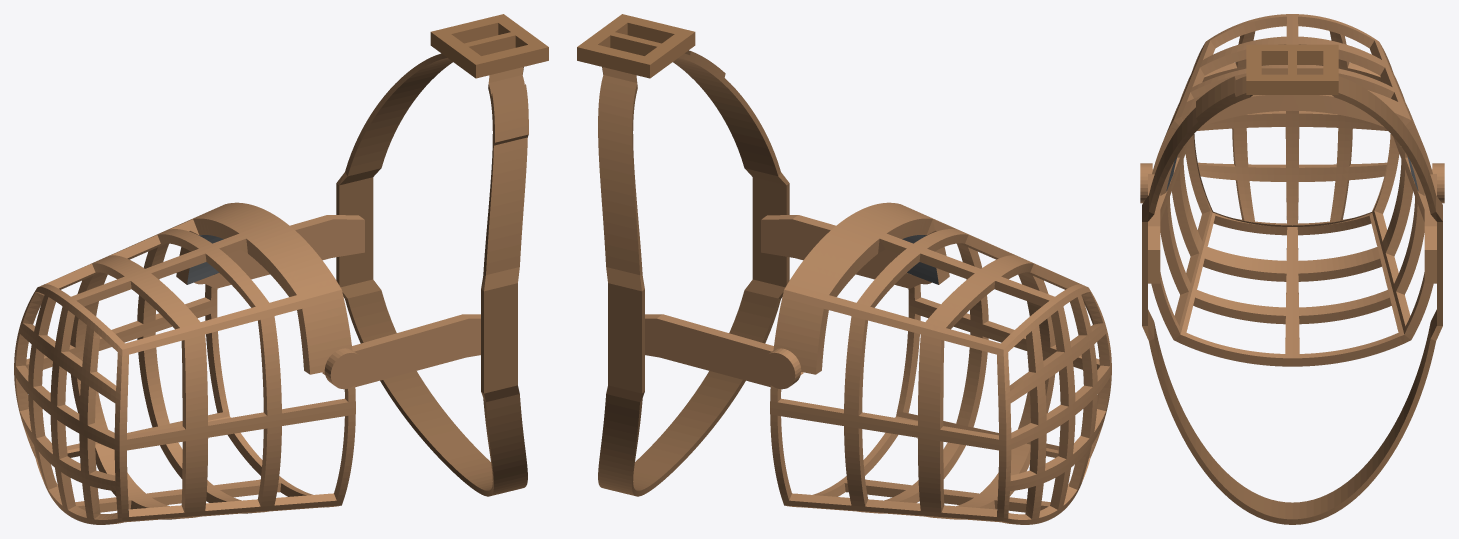
3 views of the same model, side by side, from view 1: azimuth 30°, elevation 25°; view 2: azimuth 150°, elevation 25°; view 3: azimuth 270°, elevation 25° (orthographic).
Visible parts, largest first — view 1: Integrated_lattice_bridge_cheeks, Continuous_adjustable_neck_loop, Open_single_adjustment_buckle, Retained_overlap_tail; view 2: Integrated_lattice_bridge_cheeks, Continuous_adjustable_neck_loop, Open_single_adjustment_buckle; view 3: Integrated_lattice_bridge_cheeks, Continuous_adjustable_neck_loop, Open_single_adjustment_buckle, Retained_overlap_tail.
Boxes of the visible parts, x1=… form: Integrated_lattice_bridge_cheeks: x1=14, y1=202, x2=480, y2=524; Continuous_adjustable_neck_loop: x1=336, y1=53, x2=527, y2=496; Open_single_adjustment_buckle: x1=430, y1=14, x2=548, y2=78; Retained_overlap_tail: x1=491, y1=84, x2=528, y2=145; Integrated_lattice_bridge_cheeks: x1=645, y1=202, x2=1111, y2=524; Continuous_adjustable_neck_loop: x1=598, y1=53, x2=789, y2=496; Open_single_adjustment_buckle: x1=577, y1=14, x2=695, y2=78; Integrated_lattice_bridge_cheeks: x1=1140, y1=14, x2=1444, y2=366; Continuous_adjustable_neck_loop: x1=1142, y1=68, x2=1442, y2=524; Open_single_adjustment_buckle: x1=1246, y1=44, x2=1338, y2=94; Retained_overlap_tail: x1=1196, y1=76, x2=1235, y2=121.
Size of the model in its own units: 0.181 by 0.163 by 0.099.
